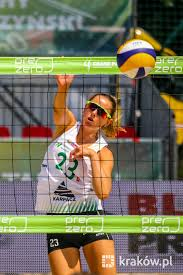ball: (115, 38, 155, 78)
